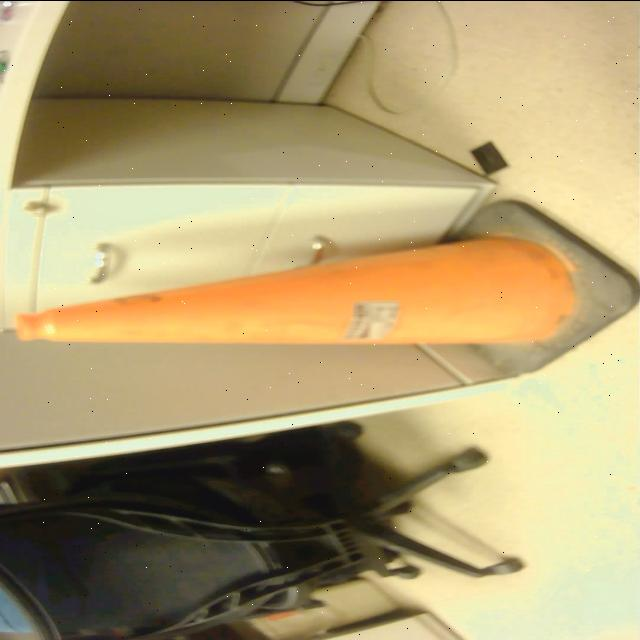traffic cone: (7, 196, 640, 383)
